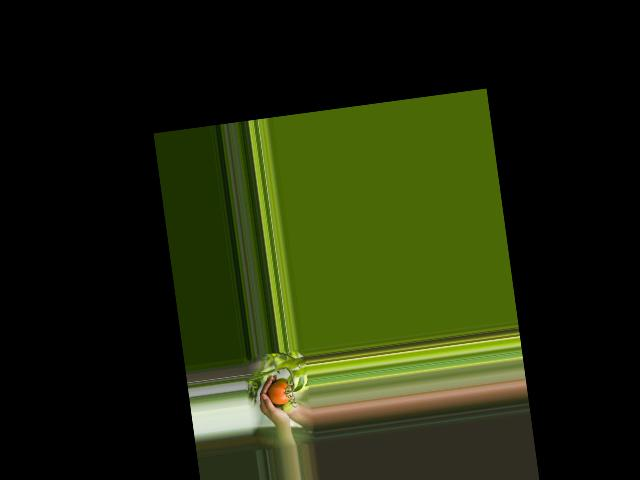tomato: (266, 380, 292, 406)
